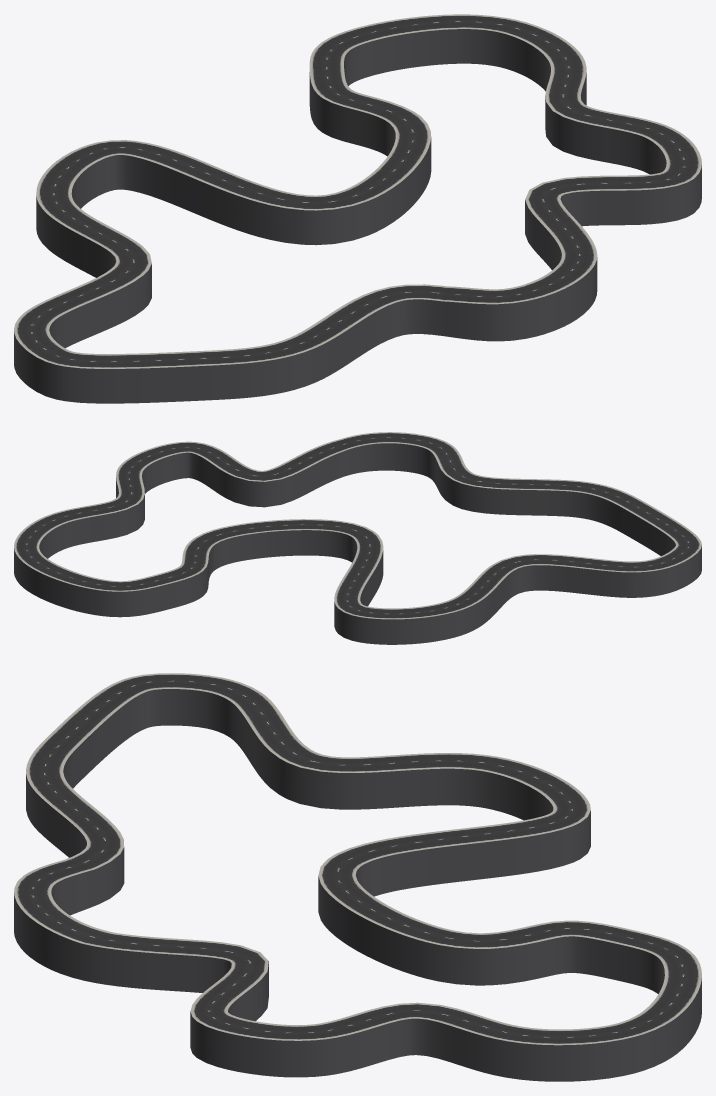
Rendered from Road01.fbx.
3 views of the same model, one above another, from view 1: azimuth 30°, elevation 25°; view 2: azimuth 150°, elevation 25°; view 3: azimuth 270°, elevation 25° (orthographic). The views are drawn at different scales.
Parts seen in each view (by area): view 1: Road01_Flat, Road01_Bot, Road01_Bottom, Road01; view 2: Road01_Flat, Road01_Bot, Road01_Bottom, Road01; view 3: Road01_Flat, Road01_Bottom, Road01_Bot, Road01.
Boxes of the visible parts, bbox=[...] form: Road01_Flat: bbox=[14, 14, 701, 368]; Road01_Bot: bbox=[14, 46, 701, 403]; Road01_Bottom: bbox=[14, 29, 701, 388]; Road01: bbox=[442, 248, 597, 304]; Road01_Flat: bbox=[14, 439, 701, 619]; Road01_Bot: bbox=[14, 443, 701, 644]; Road01_Bottom: bbox=[14, 445, 701, 633]; Road01: bbox=[339, 432, 464, 468]; Road01_Flat: bbox=[26, 673, 701, 1045]; Road01_Bottom: bbox=[14, 689, 701, 1065]; Road01_Bot: bbox=[14, 709, 701, 1081]; Road01: bbox=[14, 859, 115, 943].
Size of what is drawn, in the model's own units: 17922 by 893 by 14006.
